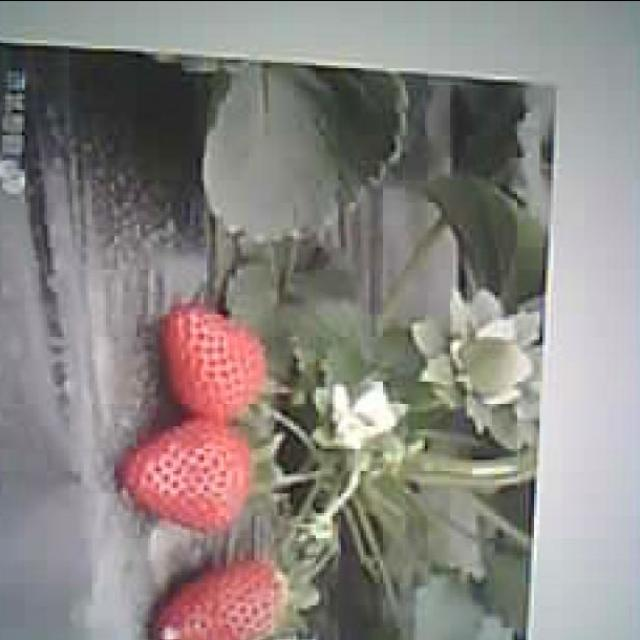Healthy Fruit: (114, 416, 251, 534), (158, 301, 268, 421), (151, 556, 288, 639)
